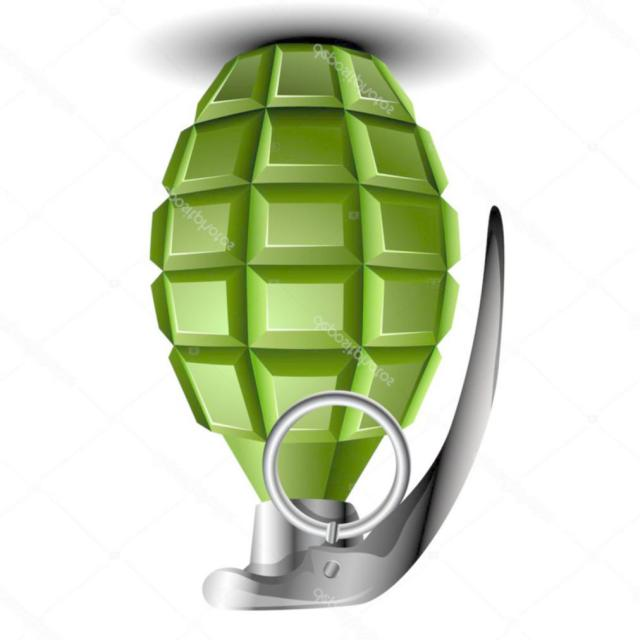grenade: (149, 37, 506, 613)
